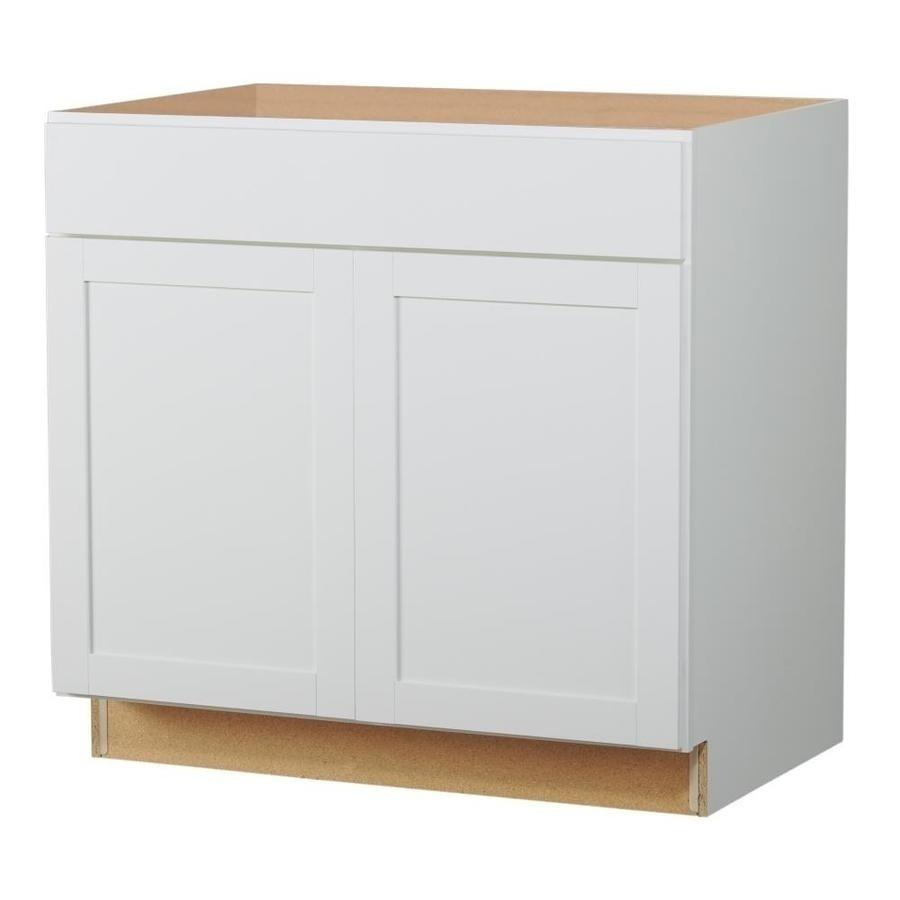cabinet_door: (359, 263, 682, 736), (48, 255, 353, 705)
